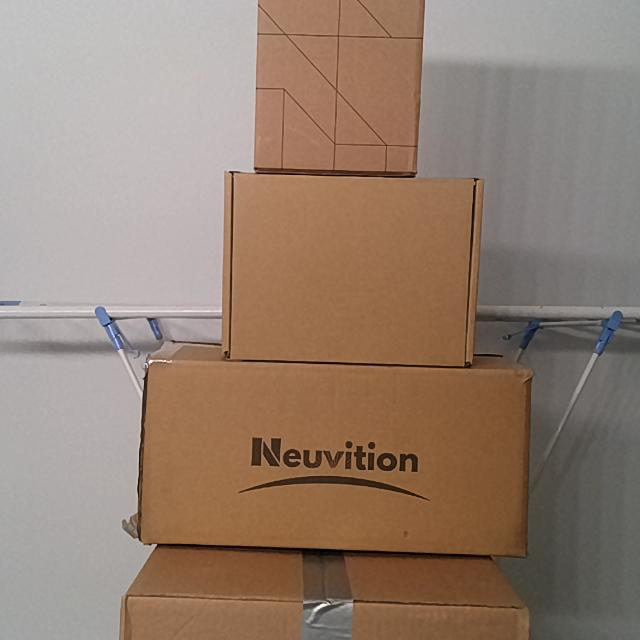box: (142, 365, 530, 549), (224, 172, 476, 362), (257, 0, 422, 170), (122, 602, 531, 640)
